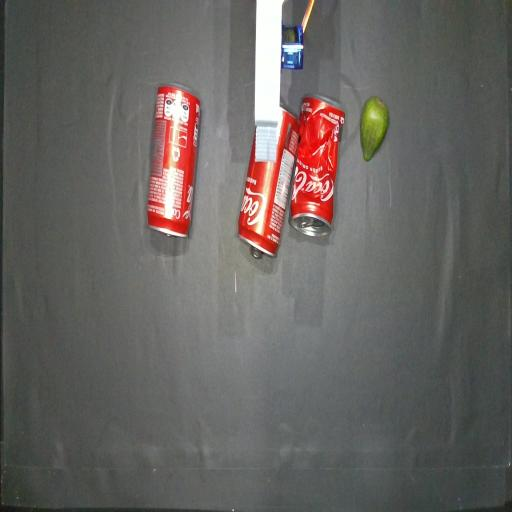higo: (360, 97, 388, 161)
lata: (238, 105, 299, 257), (147, 85, 200, 236)
lata_defectuoso: (290, 95, 344, 236)
